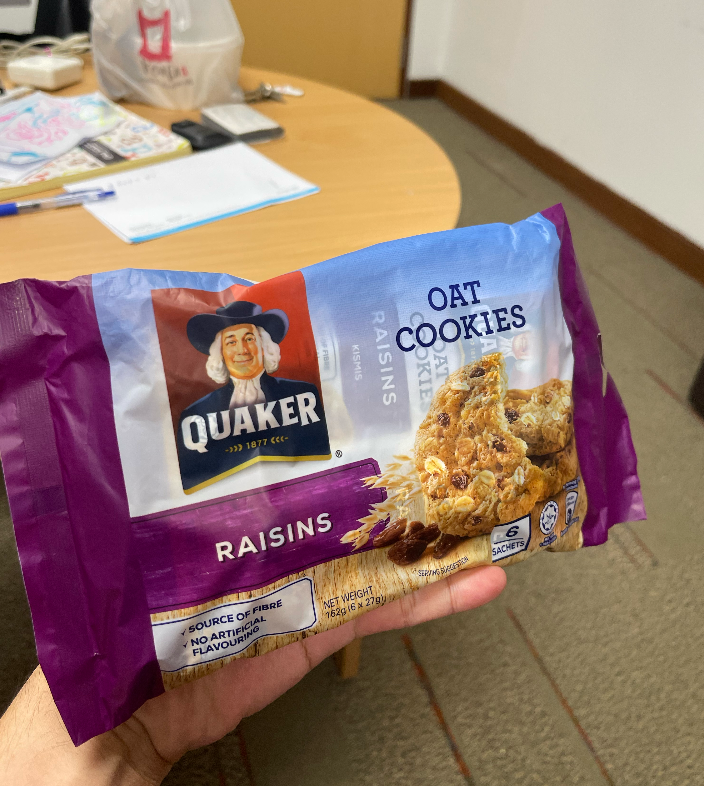cookies_100g-199g: (77, 288, 569, 557)
